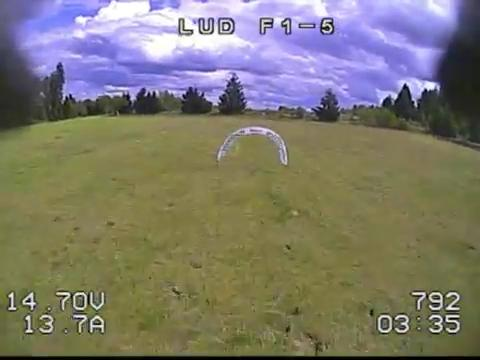gate: (217, 126, 288, 169)
